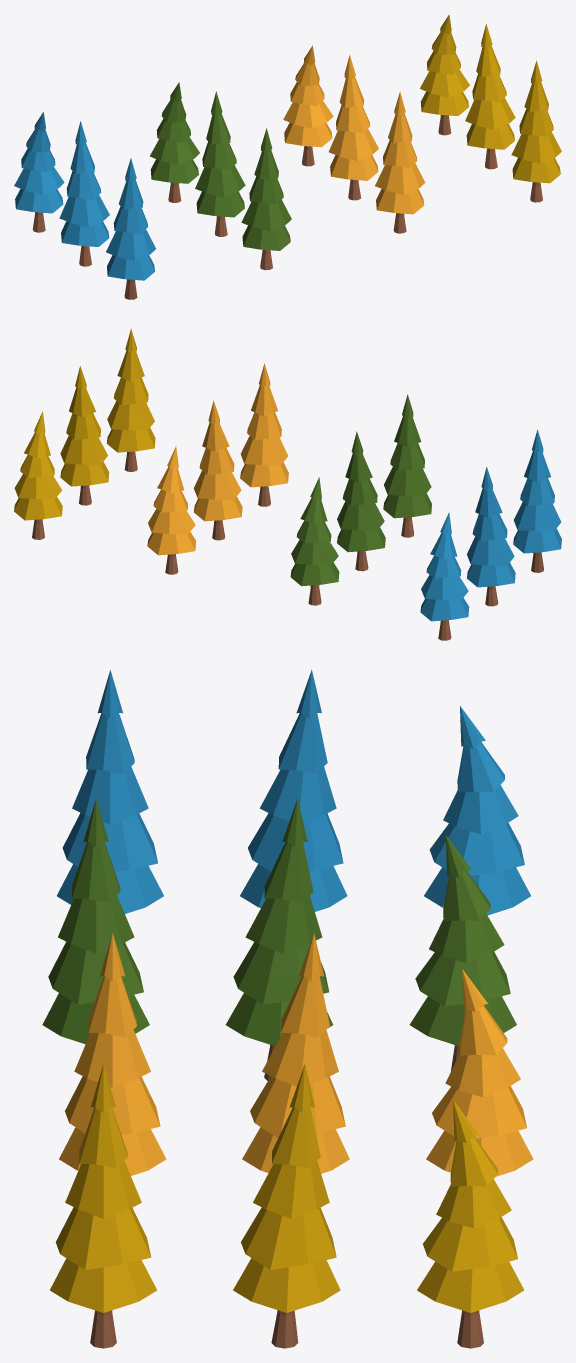
File: Lowpoly_PineTrees.fbx
3 views of the same model, one above another, from view 1: azimuth 30°, elevation 25°; view 2: azimuth 150°, elevation 25°; view 3: azimuth 270°, elevation 25° (orthographic). The views are drawn at different scales.
Parts seen in each view (by area): view 1: Lowpoly_Pine_02_Orange, Lowpoly_Pine_02_Green, Lowpoly_Pine_02_Yellow, Lowpoly_Pine_02_Blue, Lowpoly_Pine_01_Orange, Lowpoly_Pine_01_Yellow, Lowpoly_Pine_01_Blue_, Lowpoly_Pine_01_Green, Lowpoly_Pine_03_Blue, Lowpoly_Pine_03_Green, Lowpoly_Pine_03_Orange, Lowpoly_Pine_03_Yellow; view 2: Lowpoly_Pine_01_Blue_, Lowpoly_Pine_01_Green, Lowpoly_Pine_01_Orange, Lowpoly_Pine_01_Yellow, Lowpoly_Pine_02_Green, Lowpoly_Pine_02_Blue, Lowpoly_Pine_02_Orange, Lowpoly_Pine_02_Yellow, Lowpoly_Pine_03_Green, Lowpoly_Pine_03_Blue, Lowpoly_Pine_03_Yellow, Lowpoly_Pine_03_Orange; view 3: Lowpoly_Pine_02_Yellow, Lowpoly_Pine_01_Yellow, Lowpoly_Pine_03_Yellow, Lowpoly_Pine_02_Green, Lowpoly_Pine_01_Green, Lowpoly_Pine_01_Orange, Lowpoly_Pine_02_Orange, Lowpoly_Pine_01_Blue_, Lowpoly_Pine_02_Blue, Lowpoly_Pine_03_Green, Lowpoly_Pine_03_Orange, Lowpoly_Pine_03_Blue.
Boxes of the visible parts, bbox=[...] form: Lowpoly_Pine_02_Orange: bbox=[328, 55, 378, 200]; Lowpoly_Pine_02_Green: bbox=[195, 91, 245, 236]; Lowpoly_Pine_02_Yellow: bbox=[465, 24, 515, 169]; Lowpoly_Pine_02_Blue: bbox=[59, 121, 109, 266]; Lowpoly_Pine_01_Orange: bbox=[375, 91, 425, 233]; Lowpoly_Pine_01_Yellow: bbox=[511, 60, 561, 202]; Lowpoly_Pine_01_Blue_: bbox=[106, 158, 155, 299]; Lowpoly_Pine_01_Green: bbox=[241, 128, 291, 270]; Lowpoly_Pine_03_Blue: bbox=[14, 112, 64, 232]; Lowpoly_Pine_03_Green: bbox=[150, 82, 199, 202]; Lowpoly_Pine_03_Orange: bbox=[283, 45, 333, 166]; Lowpoly_Pine_03_Yellow: bbox=[420, 14, 469, 135]; Lowpoly_Pine_01_Blue_: bbox=[513, 429, 561, 572]; Lowpoly_Pine_01_Green: bbox=[383, 394, 431, 537]; Lowpoly_Pine_01_Orange: bbox=[240, 363, 288, 506]; Lowpoly_Pine_01_Yellow: bbox=[106, 328, 155, 471]; Lowpoly_Pine_02_Green: bbox=[337, 431, 385, 571]; Lowpoly_Pine_02_Blue: bbox=[466, 467, 515, 606]; Lowpoly_Pine_02_Orange: bbox=[193, 400, 242, 540]; Lowpoly_Pine_02_Yellow: bbox=[60, 366, 109, 505]; Lowpoly_Pine_03_Green: bbox=[290, 477, 339, 605]; Lowpoly_Pine_03_Blue: bbox=[420, 512, 469, 640]; Lowpoly_Pine_03_Yellow: bbox=[14, 411, 62, 539]; Lowpoly_Pine_03_Orange: bbox=[147, 446, 195, 574]; Lowpoly_Pine_02_Yellow: bbox=[233, 1064, 340, 1348]; Lowpoly_Pine_01_Yellow: bbox=[50, 1064, 157, 1348]; Lowpoly_Pine_03_Yellow: bbox=[417, 1100, 524, 1348]; Lowpoly_Pine_02_Green: bbox=[225, 799, 333, 1080]; Lowpoly_Pine_01_Green: bbox=[42, 798, 149, 1044]; Lowpoly_Pine_01_Orange: bbox=[59, 933, 166, 1175]; Lowpoly_Pine_02_Orange: bbox=[242, 933, 349, 1173]; Lowpoly_Pine_01_Blue_: bbox=[57, 670, 163, 913]; Lowpoly_Pine_02_Blue: bbox=[240, 669, 347, 911]; Lowpoly_Pine_03_Green: bbox=[409, 834, 516, 1070]; Lowpoly_Pine_03_Orange: bbox=[426, 969, 533, 1176]; Lowpoly_Pine_03_Blue: bbox=[424, 706, 530, 915].
Bounding box in the file's own units: 1624 × 481 × 767.
5 materials, 5 textured.
